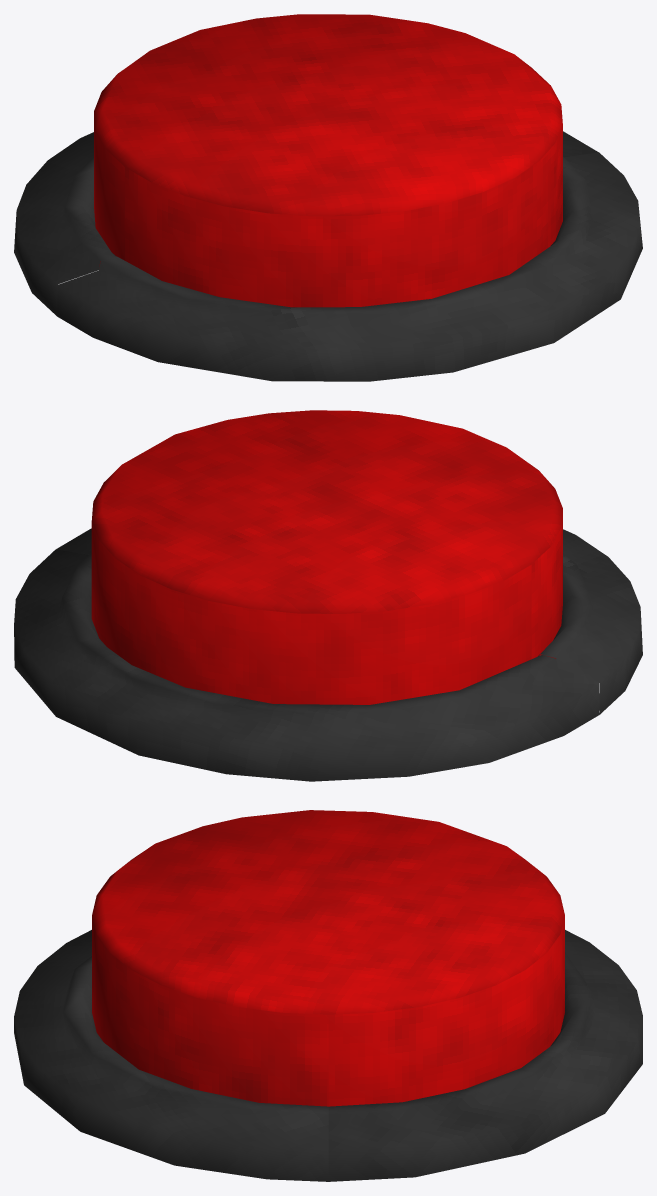
The model's file is redbtn.glb.
The picture shows the model from 3 angles, top to bottom: view 1: azimuth 30°, elevation 25°; view 2: azimuth 150°, elevation 25°; view 3: azimuth 270°, elevation 25°; orthographic projection.
Parts seen in each view (by area): view 1: Button_Cyrcle_1_Button, Button_Cyrcle_1_Frame; view 2: Button_Cyrcle_1_Button, Button_Cyrcle_1_Frame; view 3: Button_Cyrcle_1_Button, Button_Cyrcle_1_Frame.
Part boxes in pixels (x1,y1,x2,y2): Button_Cyrcle_1_Button: (94,14,562,307); Button_Cyrcle_1_Frame: (14,131,642,381); Button_Cyrcle_1_Button: (91,410,562,704); Button_Cyrcle_1_Frame: (14,528,642,781); Button_Cyrcle_1_Button: (92,810,564,1106); Button_Cyrcle_1_Frame: (14,930,642,1181).
Bounding box in the file's own units: 0.48 × 0.12 × 0.4789.
1 material, 1 textured.
